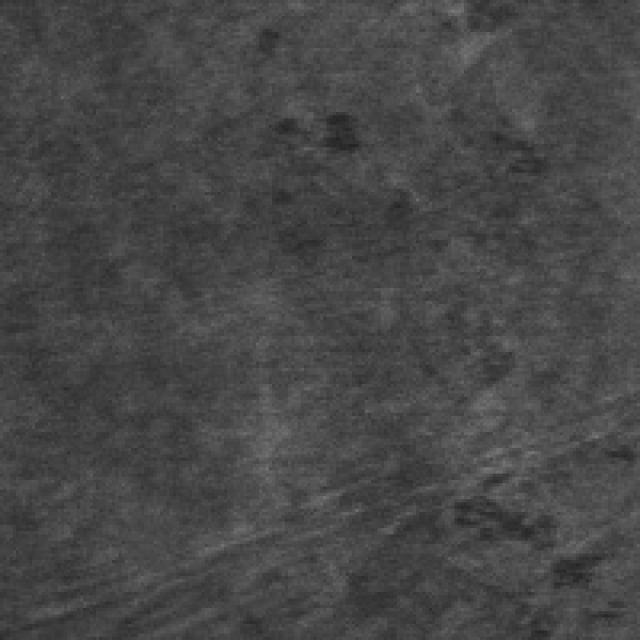rolled-in_scale: (355, 141, 570, 541), (445, 432, 630, 630)
